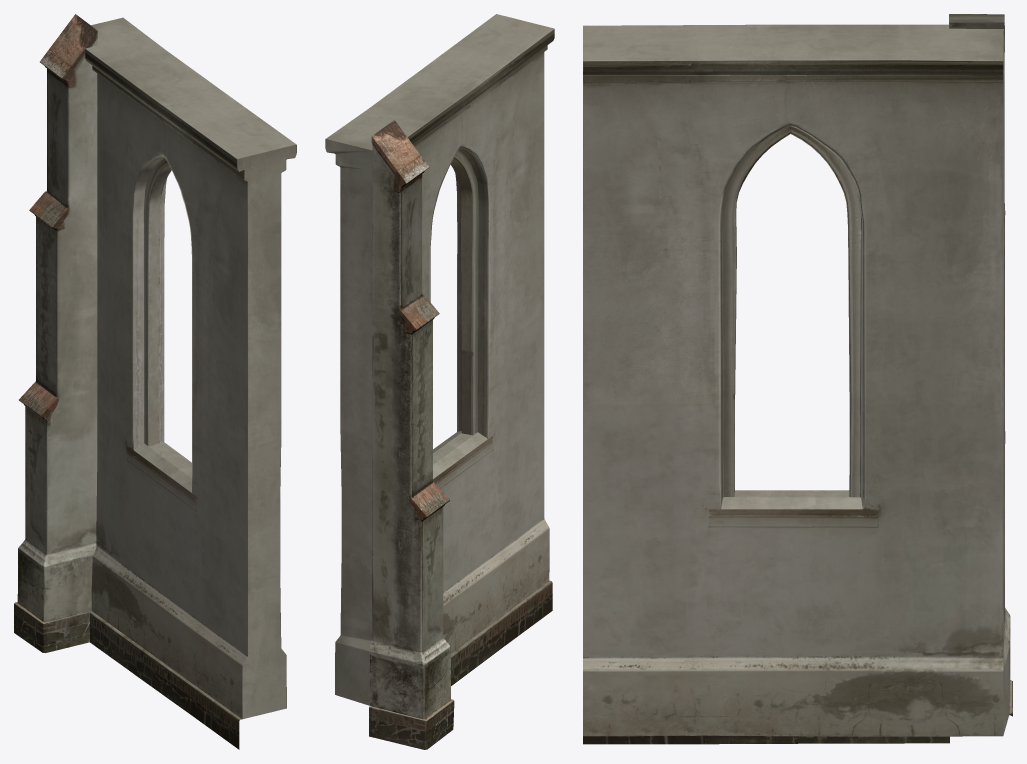
File: sm_Church_01_12.fbx
The picture shows the model from 3 angles, left to right: view 1: azimuth 30°, elevation 25°; view 2: azimuth 150°, elevation 25°; view 3: azimuth 270°, elevation 25°; orthographic projection. The views are drawn at different scales.
Visible parts, largest first — view 1: sm_Church_01_12_LOD0; view 2: sm_Church_01_12_LOD0; view 3: sm_Church_01_12_LOD0.
Part boxes in pixels (<box>): sm_Church_01_12_LOD0: <box>14,14,296,749</box>; sm_Church_01_12_LOD0: <box>325,14,554,749</box>; sm_Church_01_12_LOD0: <box>583,14,1012,744</box>.
Size of the model in its own units: 149 by 430 by 812.
